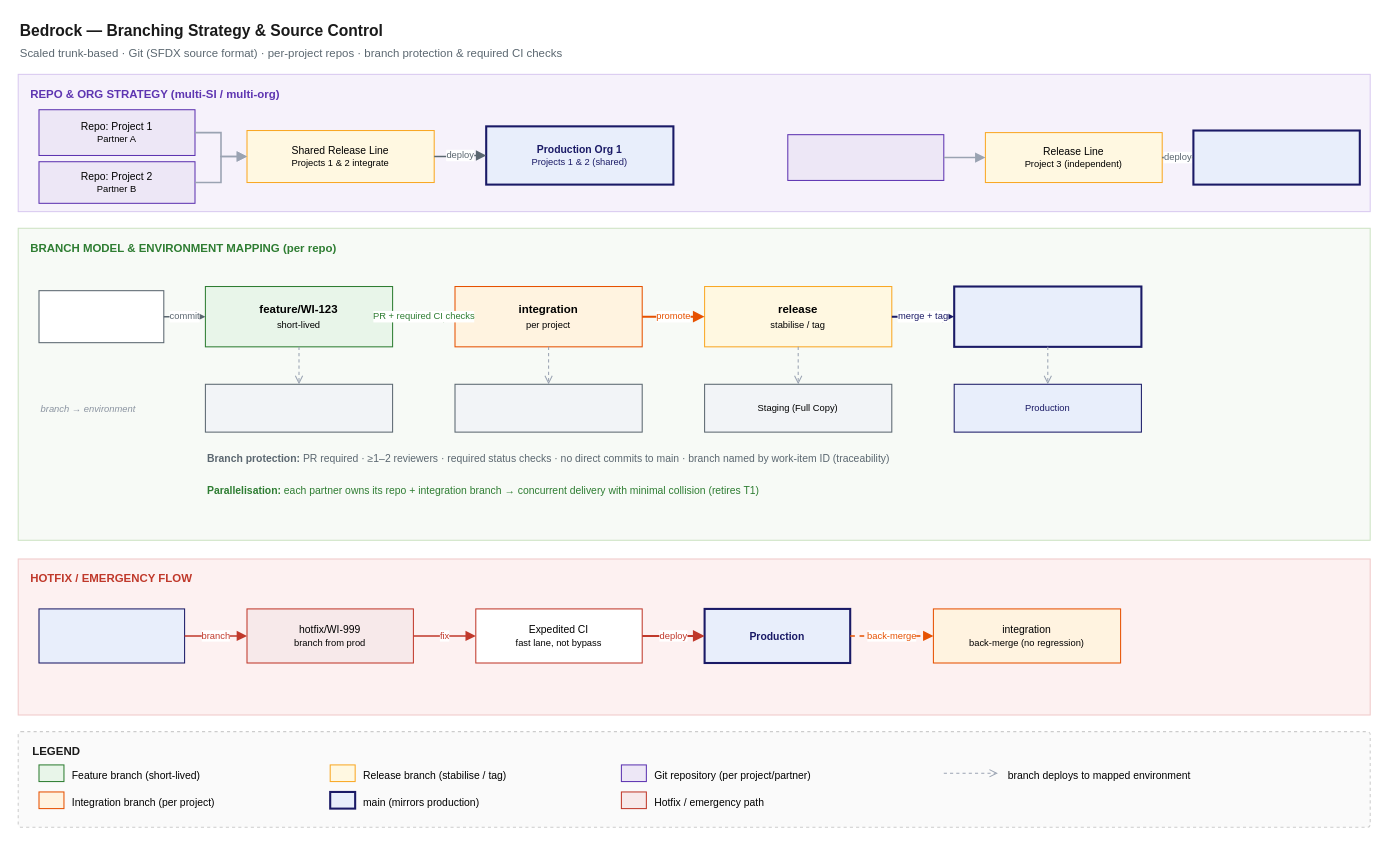
This 1388x846 diagram has some shape labels left out. The shapes that lost their labels are listed below. From the top down, each one's box as (x1, y1, x2, y2) in pixels, then its label:
(787, 134, 944, 180): Repo: Project 3 Partner C
(1192, 129, 1360, 185): Production Org 2 Project 3 (multi-org)
(38, 290, 164, 343): Developer onshore / offshore
(953, 285, 1142, 347): main mirrors production
(204, 383, 393, 432): Scratch org / Dev sandbox
(454, 383, 642, 432): UAT (Partial Copy)
(38, 608, 185, 663): main prod tag
